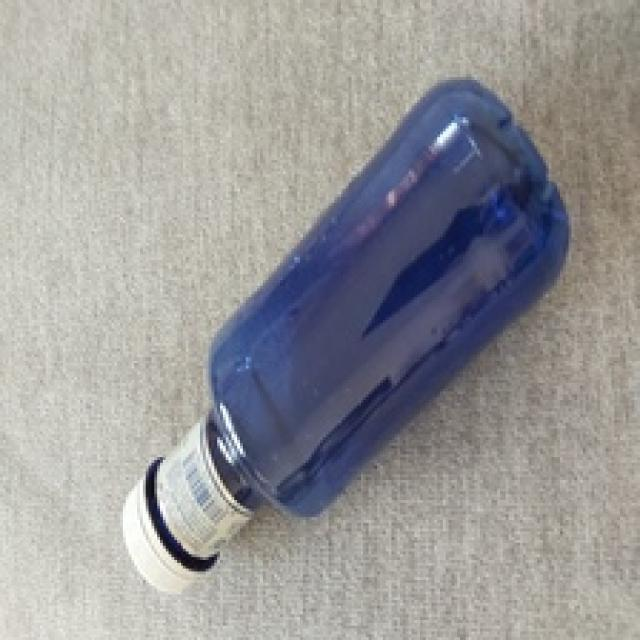Plastic: (120, 76, 568, 594)
